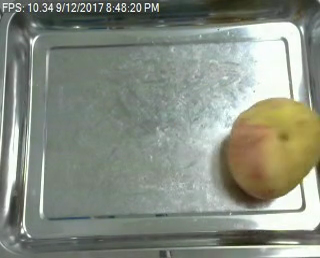Peach: (223, 97, 317, 200)
